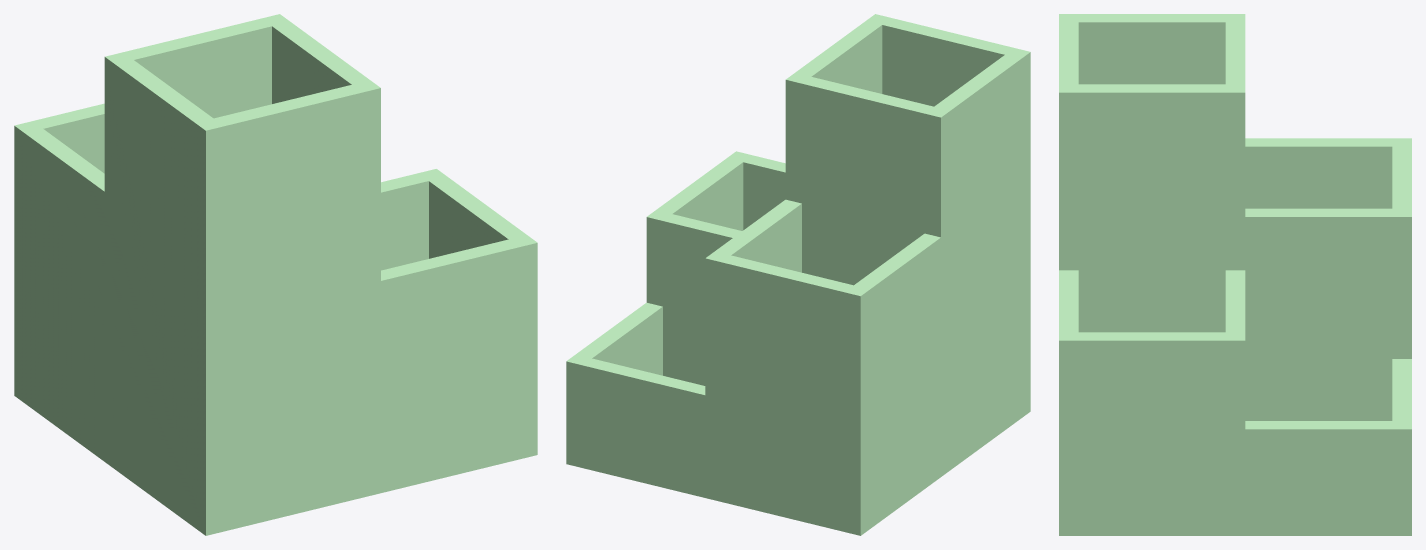
Rendered from houder.fbx.
3 renders of one model, left to right at view 1: azimuth 30°, elevation 25°; view 2: azimuth 150°, elevation 25°; view 3: azimuth 270°, elevation 25°, orthographic. The views are drawn at different scales.
Visible parts, largest first — view 1: Model; view 2: Model; view 3: Model.
Part boxes in pixels (left/top/right/bottom): Model: left=14, top=14, right=537, bottom=535; Model: left=566, top=14, right=1030, bottom=535; Model: left=1059, top=14, right=1411, bottom=535.
Bounding box in the file's own units: 900 × 1050 × 900.
